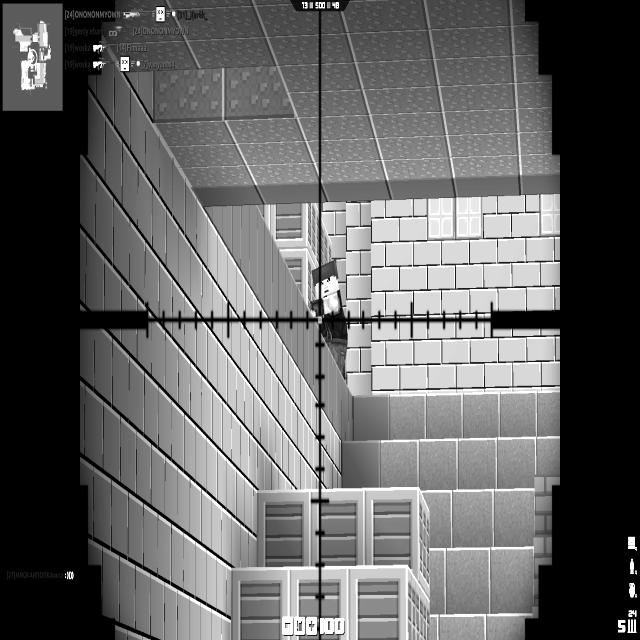Head: (312, 261, 341, 296)
Player: (310, 258, 348, 382)
